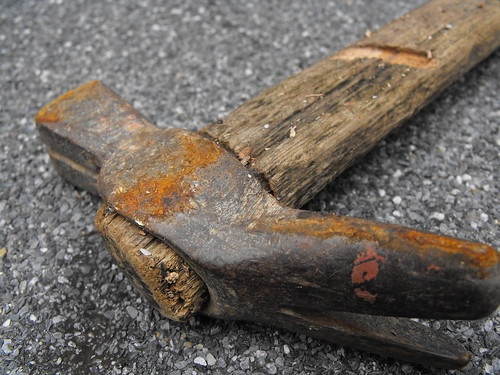hammer: (36, 0, 499, 368)
